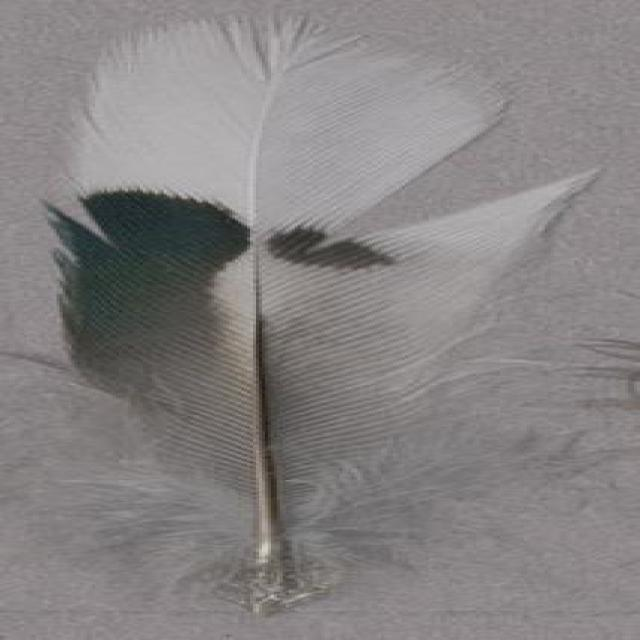feather: (7, 18, 640, 611)
